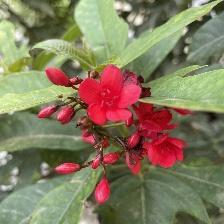jatropha: (80, 66, 142, 128)
